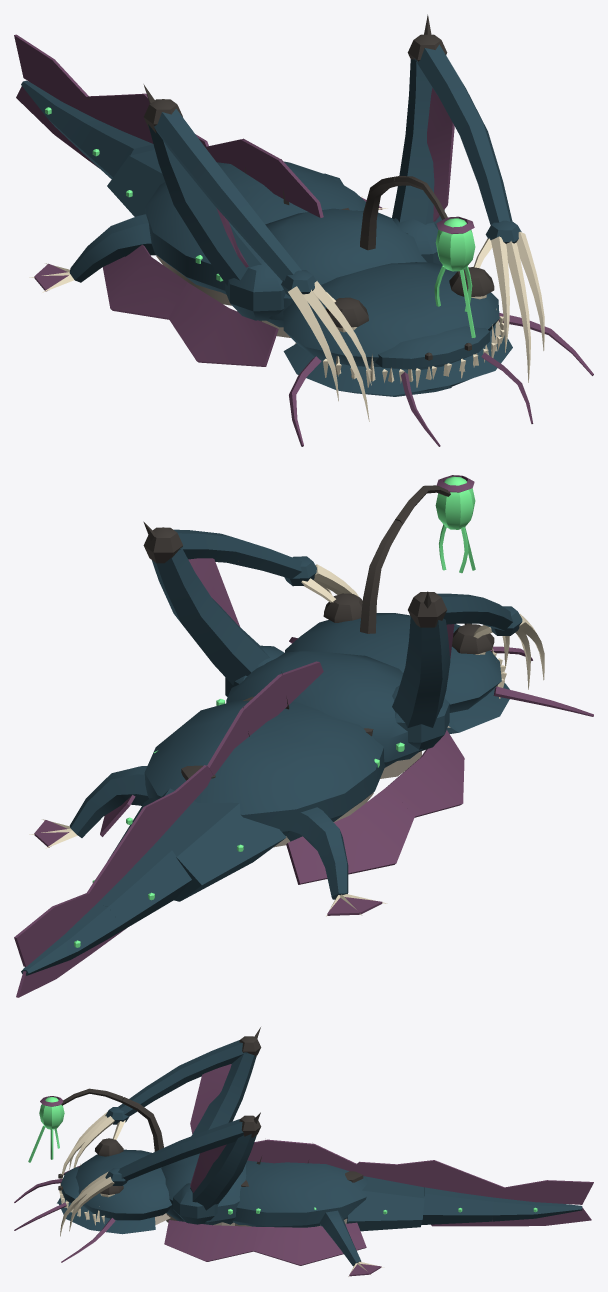
Rendered from Monster_Lurker.fbx.
3 views of the same model, one above another, from view 1: azimuth 30°, elevation 25°; view 2: azimuth 150°, elevation 25°; view 3: azimuth 270°, elevation 25° (orthographic). The views are drawn at different scales.
Visible parts, largest first — view 1: Head, Chest, Body, RightArm, LeftArm, RightFore, LeftFore, Jaw, Tail3, Tail2, LeftClaw, RightLeg (+5 smaller); view 2: Body, Chest, Head, Tail1, LeftArm, Tail2, Tail3, RightArm, LeftFore, RightLeg, LeftLeg, RightFore (+6 smaller); view 3: Body, Head, Chest, Tail1, Tail2, Tail3, LeftArm, RightArm, LeftFore, RightFore, Jaw, LeftLeg (+5 smaller).
Boxes of the visible parts, <box> form: Head: <box>283,262,593,446</box>; Chest: <box>168,160,426,366</box>; Body: <box>102,138,365,319</box>; RightArm: <box>143,84,285,320</box>; LeftArm: <box>392,14,454,265</box>; RightFore: <box>143,99,301,281</box>; LeftFore: <box>407,34,512,224</box>; Jaw: <box>283,308,512,396</box>; Tail3: <box>14,34,97,159</box>; Tail2: <box>73,93,154,179</box>; LeftClaw: <box>473,220,544,382</box>; RightLeg: <box>29,214,156,292</box>; Body: <box>100,672,414,884</box>; Chest: <box>226,651,464,817</box>; Head: <box>285,593,593,716</box>; Tail1: <box>108,765,286,901</box>; LeftArm: <box>143,521,283,696</box>; Tail2: <box>87,807,191,954</box>; Tail3: <box>14,893,120,997</box>; RightArm: <box>392,591,454,752</box>; LeftFore: <box>143,527,301,579</box>; RightLeg: <box>286,807,387,916</box>; LeftLeg: <box>29,766,148,848</box>; RightFore: <box>408,592,512,630</box>; Body: <box>232,1139,368,1265</box>; Head: <box>14,1138,171,1262</box>; Chest: <box>161,1139,267,1261</box>; Tail1: <box>346,1160,434,1231</box>; Tail2: <box>421,1160,504,1226</box>; Tail3: <box>492,1180,593,1226</box>; LeftArm: <box>173,1112,260,1224</box>; RightArm: <box>190,1027,260,1136</box>; LeftFore: <box>118,1115,261,1181</box>; RightFore: <box>118,1036,261,1116</box>; Jaw: <box>57,1164,170,1234</box>; LeftLeg: <box>319,1210,384,1276</box>.
Bounding box in the file's own units: 5.26 × 3.72 × 12.36.
